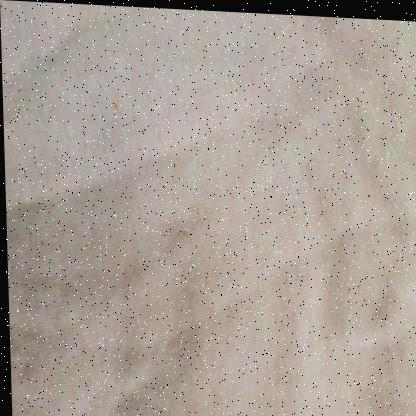spot: (184, 197, 203, 220), (107, 96, 120, 115), (78, 138, 92, 153), (177, 222, 189, 239)
